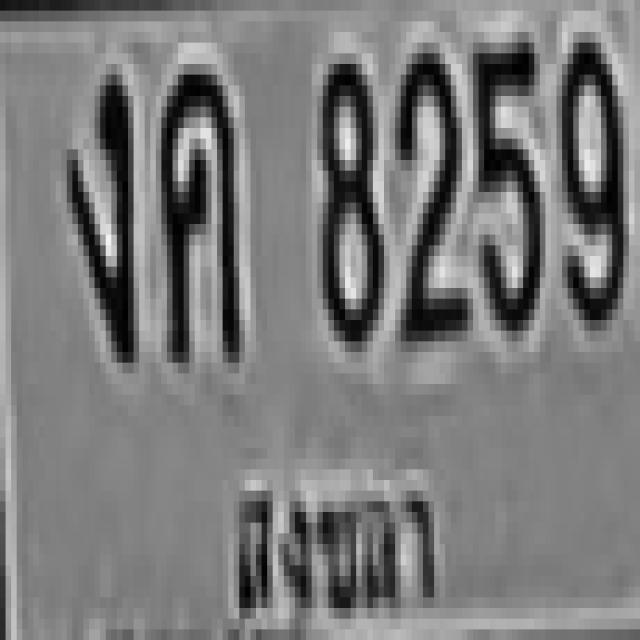13KhorKhwai: (156, 59, 234, 357)
16NgorNgu: (64, 64, 131, 352)
2: (395, 42, 462, 330)
5: (468, 32, 534, 331)
8: (317, 54, 378, 342)
9: (556, 32, 624, 320)
Songkhla: (223, 456, 449, 626)
